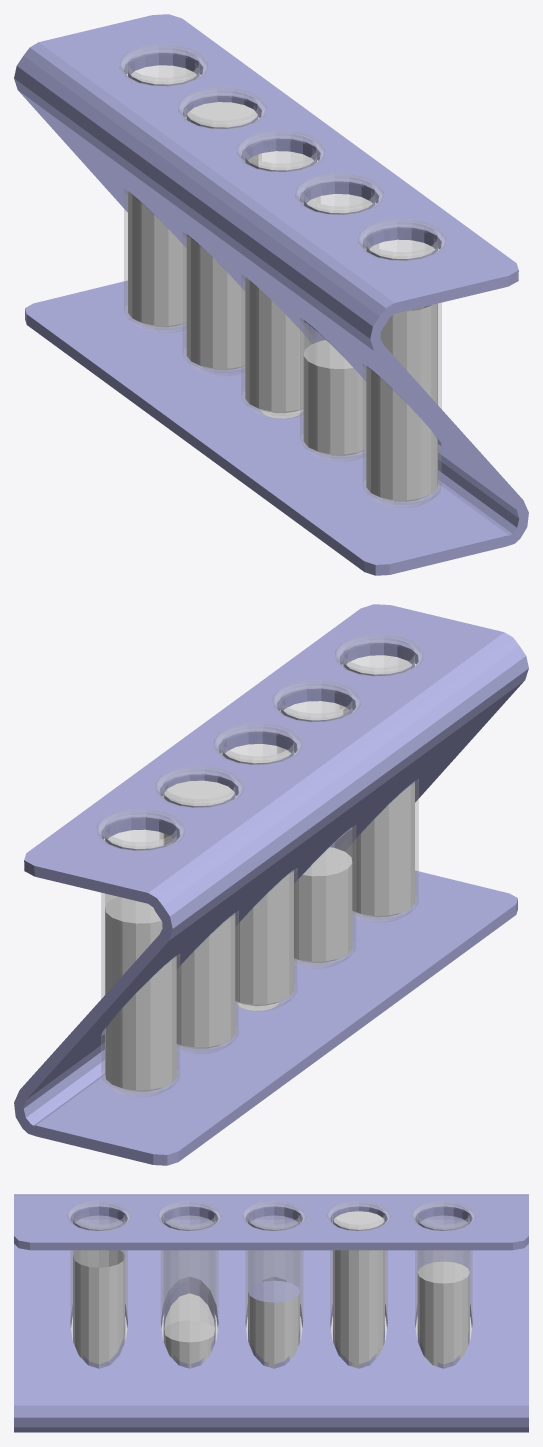
File: TubosDeEnsaioCheios.fbx
3 renders of one model, top to bottom at view 1: azimuth 30°, elevation 25°; view 2: azimuth 150°, elevation 25°; view 3: azimuth 270°, elevation 25°, orthographic. The views are drawn at different scales.
Parts seen in each view (by area): view 1: TubosDeEnsaioCheios; view 2: TubosDeEnsaioCheios; view 3: TubosDeEnsaioCheios.
Boxes of the visible parts, left/top/right/bottom form: TubosDeEnsaioCheios: left=14, top=14, right=528, bottom=575; TubosDeEnsaioCheios: left=14, top=604, right=528, bottom=1165; TubosDeEnsaioCheios: left=14, top=1194, right=528, bottom=1432.
Size of the model in its own units: 7.38 by 12.34 by 28.69.
